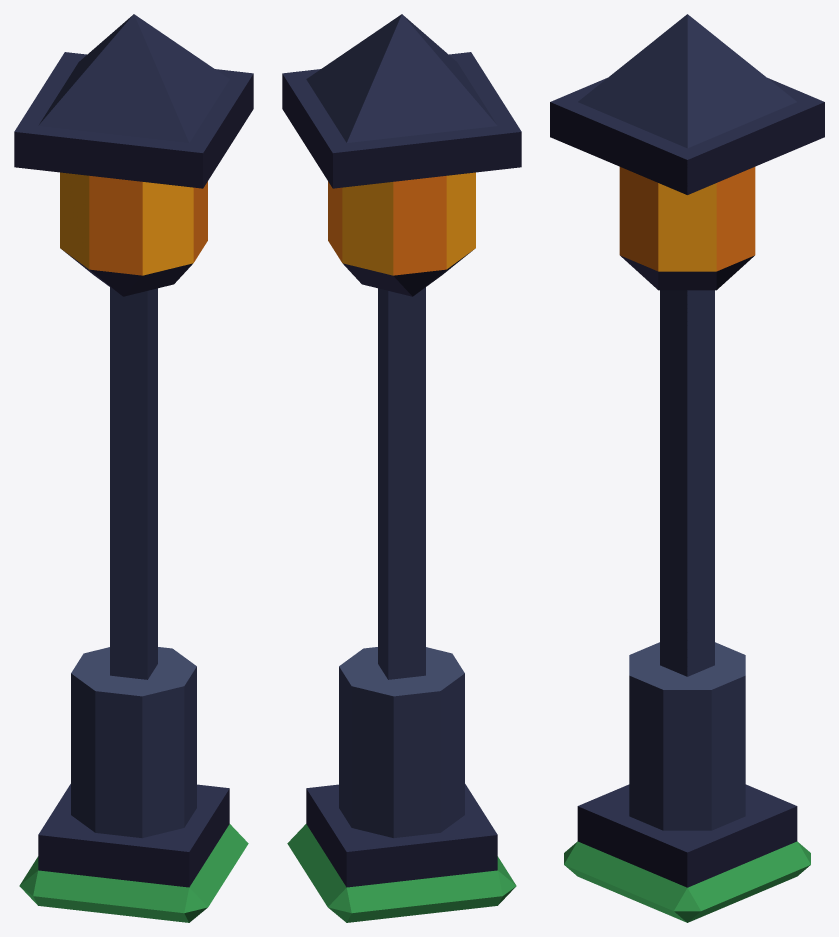
The model's file is LampostON.fbx.
3 renders of one model, left to right at view 1: azimuth 30°, elevation 25°; view 2: azimuth 150°, elevation 25°; view 3: azimuth 270°, elevation 25°, orthographic.
Parts seen in each view (by area): view 1: cylinder, cuboid_1, pyramid, beveled_cuboid, cuboid_2, cuboid, beveled_cuboid_1; view 2: cylinder, cuboid_1, pyramid, beveled_cuboid, cuboid_2, cuboid, beveled_cuboid_1; view 3: cuboid_1, cylinder, pyramid, beveled_cuboid, cuboid_2, cuboid, beveled_cuboid_1.
Boxes of the visible parts, bbox=[...] form: cylinder: bbox=[71, 647, 196, 838]; cuboid_1: bbox=[110, 287, 157, 679]; pyramid: bbox=[38, 14, 229, 142]; beveled_cuboid: bbox=[60, 172, 207, 296]; cuboid_2: bbox=[14, 52, 253, 188]; cuboid: bbox=[38, 784, 229, 887]; beveled_cuboid_1: bbox=[19, 824, 248, 922]; cylinder: bbox=[339, 647, 464, 838]; cuboid_1: bbox=[378, 287, 425, 679]; pyramid: bbox=[306, 14, 497, 142]; beveled_cuboid: bbox=[328, 172, 475, 296]; cuboid_2: bbox=[282, 52, 521, 188]; cuboid: bbox=[306, 784, 497, 887]; beveled_cuboid_1: bbox=[287, 824, 516, 922]; cuboid_1: bbox=[660, 290, 714, 676]; cylinder: bbox=[629, 642, 745, 830]; pyramid: bbox=[578, 14, 796, 148]; beveled_cuboid: bbox=[619, 167, 755, 290]; cuboid_2: bbox=[550, 78, 824, 194]; cuboid: bbox=[577, 784, 797, 887]; beveled_cuboid_1: bbox=[564, 841, 810, 922].
Size of the model in its own units: 88.39 by 306 by 88.39.
1 material, 1 textured.
